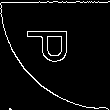P_E: (30, 36, 80, 74)
